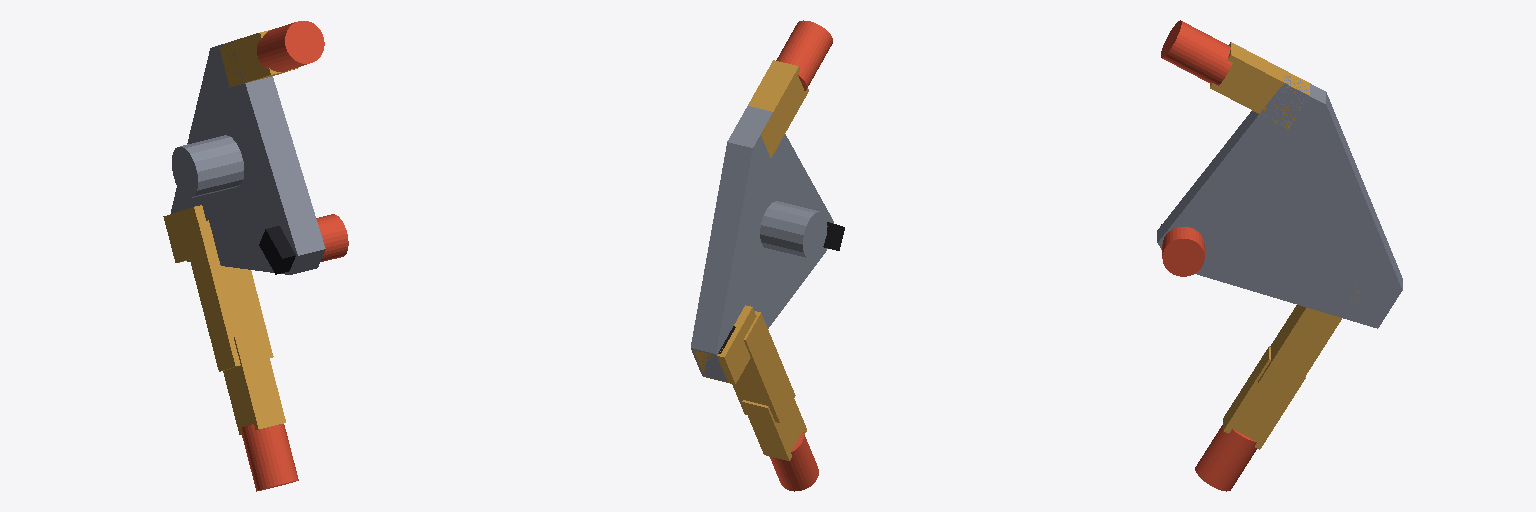
robot.urdf — g0069_c08:
<robot name="g0069_c08">
  <link name="palm">
    <visual name="palm_palm1">
      <origin xyz="0 0 0" rpy="0 0 0" />
      <geometry>
        <mesh filename="palm_palm1.obj" />
      </geometry>
      <material name="palm_palm1_mat">
        <color rgba="0.55 0.57 0.62 1" />
      </material>
    </visual>
    <collision>
      <origin xyz="0 0 0" rpy="0 0 0" />
      <geometry>
        <mesh filename="palm_palm1.obj" />
      </geometry>
    </collision>
    <visual name="palm_mount2">
      <origin xyz="0 0 0" rpy="0 0 0" />
      <geometry>
        <mesh filename="palm_mount2.obj" />
      </geometry>
      <material name="palm_mount2_mat">
        <color rgba="0.55 0.57 0.62 1" />
      </material>
    </visual>
    <collision>
      <origin xyz="0 0 0" rpy="0 0 0" />
      <geometry>
        <mesh filename="palm_mount2.obj" />
      </geometry>
    </collision>
    <visual name="palm_motor3">
      <origin xyz="-0.007 -0.08 -0.04" rpy="3.5352508e-17 -0.523598776 1.57079633" />
      <geometry>
        <box size="0.029 0.034 0.02" />
      </geometry>
      <material name="palm_motor3_mat">
        <color rgba="0.15 0.15 0.17 1" />
      </material>
    </visual>
    <collision>
      <origin xyz="-0.007 -0.08 -0.04" rpy="3.5352508e-17 -0.523598776 1.57079633" />
      <geometry>
        <box size="0.029 0.034 0.02" />
      </geometry>
    </collision>
    <visual name="palm_motor4">
      <origin xyz="0 0.00649519053 0.07625" rpy="-1.57079633 -1.04719755 1.57079633" />
      <geometry>
        <box size="0.029 0.034 0.02" />
      </geometry>
      <material name="palm_motor4_mat">
        <color rgba="0.15 0.15 0.17 1" />
      </material>
    </visual>
    <collision>
      <origin xyz="0 0.00649519053 0.07625" rpy="-1.57079633 -1.04719755 1.57079633" />
      <geometry>
        <box size="0.029 0.034 0.02" />
      </geometry>
    </collision>
    <visual name="palm_motor5">
      <origin xyz="-0.0045 0.0666996732 -0.0867548095" rpy="1.57079633 -0.523598776 -1.57079633" />
      <geometry>
        <box size="0.029 0.034 0.02" />
      </geometry>
      <material name="palm_motor5_mat">
        <color rgba="0.15 0.15 0.17 1" />
      </material>
    </visual>
    <collision>
      <origin xyz="-0.0045 0.0666996732 -0.0867548095" rpy="1.57079633 -0.523598776 -1.57079633" />
      <geometry>
        <box size="0.029 0.034 0.02" />
      </geometry>
    </collision>
    <inertial>
      <origin xyz="-2.32979295e-19 0.00200955001 -0.0168911789" rpy="1.57079633 1.12050301 1.57079633" />
      <mass value="0.92785012" />
      <inertia ixx="0.00155742292" ixy="0" ixz="0" iyy="0.0022775371" iyz="0" izz="0.0037458864" />
    </inertial>
  </link>
  <link name="f0_link0">
    <visual name="f0_link0_link1">
      <origin xyz="0.019 -1.38777878e-17 -2.60208521e-18" rpy="-1.57079633 -0 -1.57079633" />
      <geometry>
        <cylinder radius="0.0165" length="0.029" />
      </geometry>
      <material name="f0_link0_link1_mat">
        <color rgba="0.85 0.35 0.25 1" />
      </material>
    </visual>
    <collision>
      <origin xyz="0.019 -1.38777878e-17 -2.60208521e-18" rpy="-1.57079633 -0 -1.57079633" />
      <geometry>
        <cylinder radius="0.0165" length="0.029" />
      </geometry>
    </collision>
    <inertial>
      <origin xyz="0.019 0 0" rpy="0 0 0" />
      <mass value="0.0763354" />
      <inertia ixx="9.49466441e-06" ixy="0" ixz="0" iyy="2.24143997e-05" iyz="0" izz="2.24143997e-05" />
    </inertial>
  </link>
  <link name="f1_link0">
    <visual name="f1_link0_link1">
      <origin xyz="0.02375 0 0" rpy="0 7.03853194e-17 0" />
      <geometry>
        <box size="0.0715 0.024 0.033" />
      </geometry>
      <material name="f1_link0_link1_mat">
        <color rgba="0.80 0.62 0.30 1" />
      </material>
    </visual>
    <collision>
      <origin xyz="0.02375 0 0" rpy="0 7.03853194e-17 0" />
      <geometry>
        <box size="0.0715 0.024 0.033" />
      </geometry>
    </collision>
    <inertial>
      <origin xyz="0.02375 0 0" rpy="0 0 0" />
      <mass value="0.099099" />
      <inertia ixx="1.37499863e-05" ixy="0" ixz="0" iyy="5.12114728e-05" iyz="0" izz="4.69749906e-05" />
    </inertial>
  </link>
  <link name="f1_link1">
    <visual name="f1_link1_link1">
      <origin xyz="0.029 0 6.9388939e-18" rpy="-1.57079633 -0 -1.57079633" />
      <geometry>
        <cylinder radius="0.0165" length="0.049" />
      </geometry>
      <material name="f1_link1_link1_mat">
        <color rgba="0.85 0.35 0.25 1" />
      </material>
    </visual>
    <collision>
      <origin xyz="0.029 0 6.9388939e-18" rpy="-1.57079633 -0 -1.57079633" />
      <geometry>
        <cylinder radius="0.0165" length="0.049" />
      </geometry>
    </collision>
    <inertial>
      <origin xyz="0.029 0 0" rpy="0 0 0" />
      <mass value="0.106270851" />
      <inertia ixx="1.35696277e-05" ixy="0" ixz="0" iyy="5.30015704e-05" iyz="0" izz="5.30015704e-05" />
    </inertial>
  </link>
  <link name="f2_link0">
    <visual name="f2_link0_link1">
      <origin xyz="-0.00625 0 -0.0165" rpy="0 4.06369831e-17 0" />
      <geometry>
        <box size="0.0365 0.029 0.053" />
      </geometry>
      <material name="f2_link0_link1_mat">
        <color rgba="0.80 0.62 0.30 1" />
      </material>
    </visual>
    <collision>
      <origin xyz="-0.00625 0 -0.0165" rpy="0 4.06369831e-17 0" />
      <geometry>
        <box size="0.0365 0.029 0.053" />
      </geometry>
    </collision>
    <inertial>
      <origin xyz="-0.00625 0 -0.0165" rpy="0 0 0" />
      <mass value="0.098175875" />
      <inertia ixx="2.98618286e-05" ixy="0" ixz="0" iyy="3.38809035e-05" iyz="0" izz="1.778006e-05" />
    </inertial>
  </link>
  <link name="f2_link1">
    <visual name="f2_link1_link1">
      <origin xyz="0.04375 0 0" rpy="0 4.06369831e-17 0" />
      <geometry>
        <box size="0.1115 0.033 0.029" />
      </geometry>
      <material name="f2_link1_link1_mat">
        <color rgba="0.80 0.62 0.30 1" />
      </material>
    </visual>
    <collision>
      <origin xyz="0.04375 0 0" rpy="0 4.06369831e-17 0" />
      <geometry>
        <box size="0.1115 0.033 0.029" />
      </geometry>
    </collision>
    <inertial>
      <origin xyz="0.04375 0 0" rpy="0 0 0" />
      <mass value="0.186734625" />
      <inertia ixx="3.00331522e-05" ixy="0" ixz="0" iyy="0.000206547947" iyz="0" izz="0.000210407129" />
    </inertial>
  </link>
  <link name="f2_link2">
    <visual name="f2_link2_link1">
      <origin xyz="0.02375 0 -1.38777878e-17" rpy="0 4.06369831e-17 0" />
      <geometry>
        <box size="0.0715 0.024 0.033" />
      </geometry>
      <material name="f2_link2_link1_mat">
        <color rgba="0.80 0.62 0.30 1" />
      </material>
    </visual>
    <collision>
      <origin xyz="0.02375 0 -1.38777878e-17" rpy="0 4.06369831e-17 0" />
      <geometry>
        <box size="0.0715 0.024 0.033" />
      </geometry>
    </collision>
    <inertial>
      <origin xyz="0.02375 0 0" rpy="0 0 0" />
      <mass value="0.099099" />
      <inertia ixx="1.37499863e-05" ixy="0" ixz="0" iyy="5.12114728e-05" iyz="0" izz="4.69749906e-05" />
    </inertial>
  </link>
  <link name="f2_link3">
    <visual name="f2_link3_link1">
      <origin xyz="0.029 0 -6.9388939e-18" rpy="-1.57079633 -0 -1.57079633" />
      <geometry>
        <cylinder radius="0.0165" length="0.049" />
      </geometry>
      <material name="f2_link3_link1_mat">
        <color rgba="0.85 0.35 0.25 1" />
      </material>
    </visual>
    <collision>
      <origin xyz="0.029 0 -6.9388939e-18" rpy="-1.57079633 -0 -1.57079633" />
      <geometry>
        <cylinder radius="0.0165" length="0.049" />
      </geometry>
    </collision>
    <inertial>
      <origin xyz="0.029 0 0" rpy="0 0 0" />
      <mass value="0.106270851" />
      <inertia ixx="1.35696277e-05" ixy="0" ixz="0" iyy="5.30015704e-05" iyz="0" izz="5.30015704e-05" />
    </inertial>
  </link>
  <joint name="f0_j0" type="revolute">
    <parent link="palm" />
    <child link="f0_link0" />
    <origin xyz="0.0005 -0.08 -0.04" rpy="0.523598776 3.061617e-17 -5.30287619e-17" />
    <axis xyz="0 1 6.123234e-17" />
    <limit effort="0.5" lower="-0.523598776" upper="0.523598776" velocity="5" />
    <dynamics damping="0.0775033" friction="0" />
  </joint>
  <joint name="f1_j0" type="revolute">
    <parent link="palm" />
    <child link="f1_link0" />
    <origin xyz="0 0 0.08" rpy="-0 -0.523598776 -1.57079633" />
    <axis xyz="0 0 1" />
    <limit effort="0.5" lower="-0.523598776" upper="1.57079633" velocity="5" />
    <dynamics damping="0.0775033" friction="0" />
  </joint>
  <joint name="f1_j1" type="revolute">
    <parent link="f1_link0" />
    <child link="f1_link1" />
    <origin xyz="0.05 0 0" rpy="0 0 0" />
    <axis xyz="0 0 1" />
    <limit effort="0.5" lower="-0.523598776" upper="1.57079633" velocity="5" />
    <dynamics damping="0.0775033" friction="0" />
  </joint>
  <joint name="f2_j0" type="revolute">
    <parent link="palm" />
    <child link="f2_link0" />
    <origin xyz="-0.0045 0.04 -0.08" rpy="0 1.04719755 -1.57079633" />
    <axis xyz="0 0 1" />
    <limit effort="0.5" lower="-0.523598776" upper="1.57079633" velocity="5" />
    <dynamics damping="0.0775033" friction="0" />
  </joint>
  <joint name="f2_j1" type="revolute">
    <parent link="f2_link0" />
    <child link="f2_link1" />
    <origin xyz="0 0 0" rpy="0 0 0" />
    <axis xyz="0 1 6.123234e-17" />
    <limit effort="0.5" lower="-0.523598776" upper="0.523598776" velocity="5" />
    <dynamics damping="0.0775033" friction="0" />
  </joint>
  <joint name="f2_j2" type="revolute">
    <parent link="f2_link1" />
    <child link="f2_link2" />
    <origin xyz="0.09 0 0" rpy="0 0 0" />
    <axis xyz="0 0 1" />
    <limit effort="0.5" lower="-0.523598776" upper="1.57079633" velocity="5" />
    <dynamics damping="0.0775033" friction="0" />
  </joint>
  <joint name="f2_j3" type="revolute">
    <parent link="f2_link2" />
    <child link="f2_link3" />
    <origin xyz="0.05 0 0" rpy="0 0 0" />
    <axis xyz="0 0 1" />
    <limit effort="0.5" lower="-0.523598776" upper="1.57079633" velocity="5" />
    <dynamics damping="0.0775033" friction="0" />
  </joint>
</robot>

--- Facts derived from the render (not from the file) ---
The picture shows the robot from 3 angles, left to right: view 1: azimuth 30°, elevation 25°; view 2: azimuth 150°, elevation 25°; view 3: azimuth 270°, elevation 25°; orthographic projection.
Robot: g0069_c08 — 8 links, 7 joints (7 revolute); root link palm; default pose: every joint at zero.
Visible links, largest first — view 1: palm, f2_link1, f2_link2, f2_link3, f1_link1, f1_link0, f2_link0, f0_link0; view 2: palm, f2_link1, f1_link0, f2_link2, f1_link1, f2_link0, f2_link3; view 3: palm, f2_link1, f1_link0, f2_link2, f1_link1, f2_link3, f0_link0.
Boxes of the visible links, <box> form: palm: <box>171,41,325,274</box>; f2_link1: <box>182,220,273,371</box>; f2_link2: <box>223,331,285,434</box>; f2_link3: <box>240,424,298,491</box>; f1_link1: <box>257,21,324,71</box>; f1_link0: <box>219,30,298,87</box>; f2_link0: <box>163,205,205,262</box>; f0_link0: <box>316,214,348,261</box>; palm: <box>691,106,844,381</box>; f2_link1: <box>732,311,795,422</box>; f1_link0: <box>748,60,808,157</box>; f2_link2: <box>742,399,806,460</box>; f1_link1: <box>776,20,832,90</box>; f2_link0: <box>693,305,756,384</box>; f2_link3: <box>769,432,818,491</box>; palm: <box>1157,75,1402,328</box>; f2_link1: <box>1258,287,1359,400</box>; f1_link0: <box>1210,42,1309,128</box>; f2_link2: <box>1223,346,1305,449</box>; f1_link1: <box>1161,20,1232,85</box>; f2_link3: <box>1195,425,1256,491</box>; f0_link0: <box>1162,227,1204,276</box>.
Bounding box of the posed robot: 0.086 × 0.1908 × 0.4019 m (x, y, z).
2 mesh visuals loaded from 2 distinct referenced files (2 OBJ).
